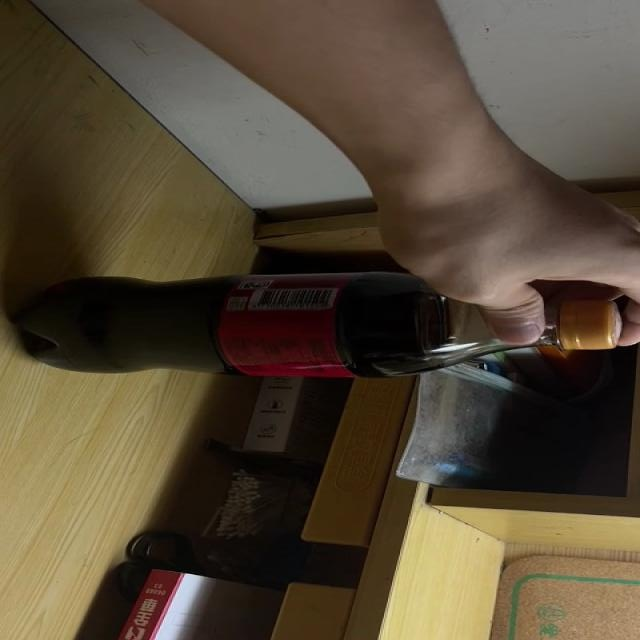Coca-Cola: (17, 272, 622, 379)
